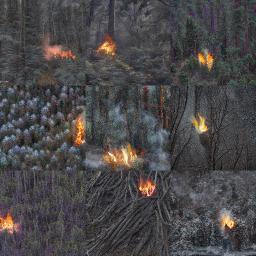Small fire: (38, 39, 80, 65), (69, 102, 86, 153), (97, 143, 145, 161), (0, 201, 20, 239), (216, 203, 238, 236), (194, 45, 215, 68), (98, 32, 118, 51), (135, 177, 155, 195), (191, 114, 208, 133)
